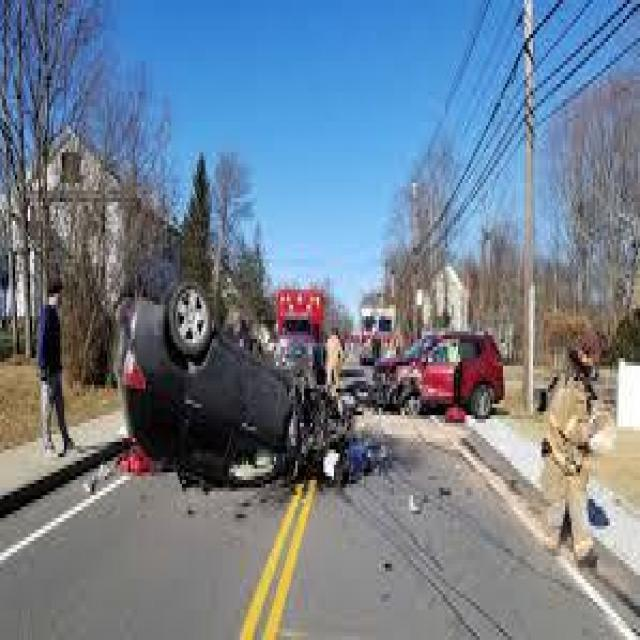accident: (112, 277, 508, 485), (114, 280, 390, 488), (350, 322, 508, 416)
